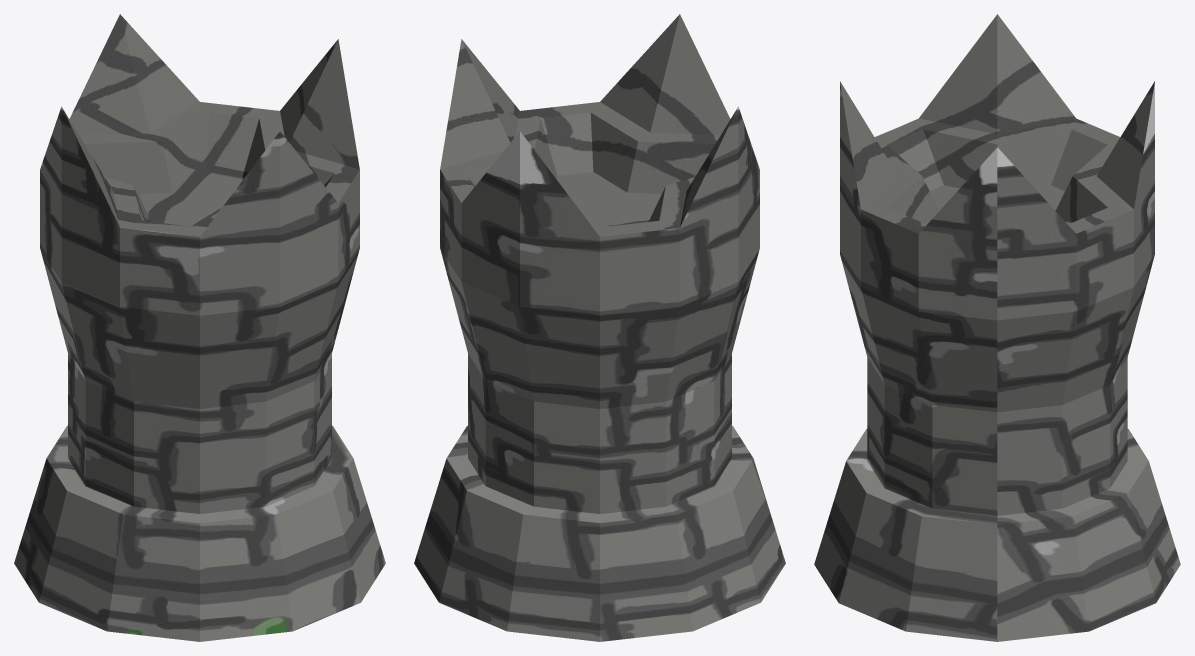
Rendered from magiciantower.fbx.
The picture shows the model from 3 angles, left to right: view 1: azimuth 30°, elevation 25°; view 2: azimuth 150°, elevation 25°; view 3: azimuth 270°, elevation 25°; orthographic projection.
Visible parts, largest first — view 1: Tower2; view 2: Tower2; view 3: Tower2.
Boxes of the visible parts, x1,y1,x2,y2 form: Tower2: [14, 14, 385, 641]; Tower2: [414, 14, 785, 641]; Tower2: [814, 14, 1180, 641].
Bounding box in the file's own units: 0.8054 × 1.17 × 0.8054.
Materials: 1 (1 with a texture image).
